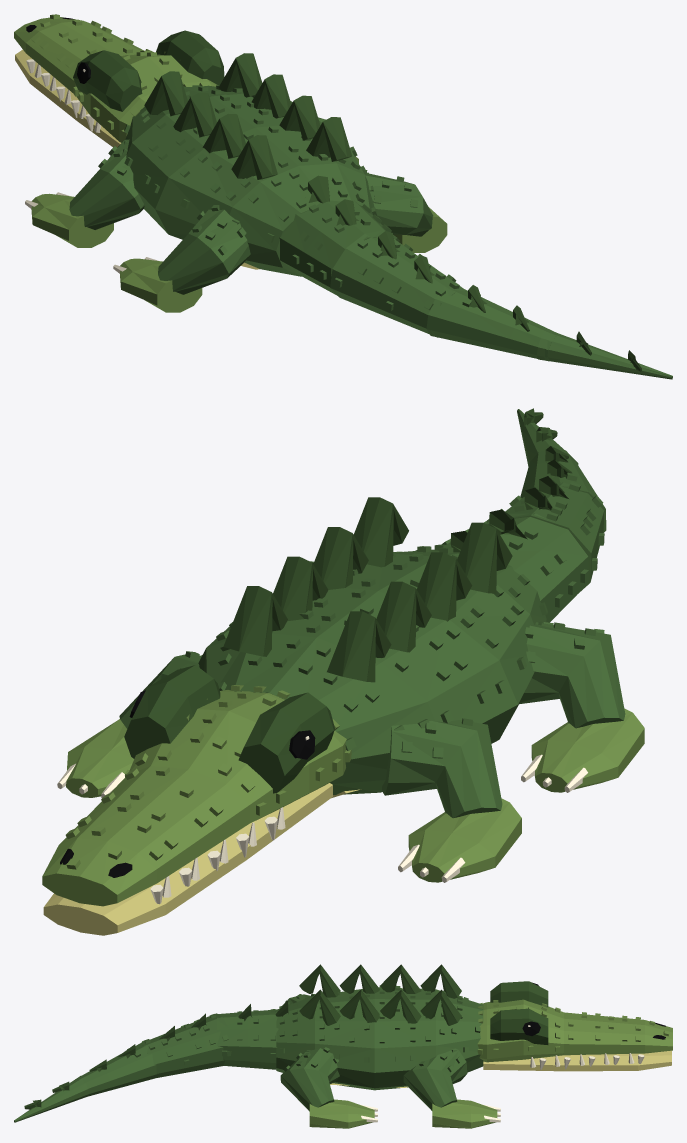
File: Crocodile.fbx
3 renders of one model, top to bottom at view 1: azimuth 30°, elevation 25°; view 2: azimuth 150°, elevation 25°; view 3: azimuth 270°, elevation 25°, orthographic. The views are drawn at different scales.
Parts seen in each view (by area): view 1: Import3D_Core, Import3D_Head, Import3D_Tail1, Import3D_Tail, Import3D_Tail2, Import3D_LegBL, Import3D_LegFL, Import3D_LegBR, Import3D_Tail3, Import3D_FootB-1, Import3D_FootF-1, Import3D_Jaw (+1 smaller); view 2: Import3D_Core, Import3D_Head, Import3D_LegFL, Import3D_Jaw, Import3D_LegBL, Import3D_FootF-1, Import3D_FootB-1, Import3D_Tail, Import3D_Tail1, Import3D_FootF1, Import3D_Tail2, Import3D_Tail3 (+1 smaller); view 3: Import3D_Core, Import3D_Head, Import3D_Tail1, Import3D_Tail, Import3D_Jaw, Import3D_LegBR, Import3D_LegFR, Import3D_Tail2, Import3D_FootB1, Import3D_FootF1, Import3D_Tail3.
Boxes of the visible parts, box(x1,y1,x2,y2) form: Import3D_Core: box(122, 53, 377, 276); Import3D_Head: box(14, 14, 224, 142); Import3D_Tail1: box(330, 231, 466, 337); Import3D_Tail: box(279, 175, 391, 298); Import3D_Tail2: box(426, 285, 557, 361); Import3D_LegBL: box(158, 205, 250, 294); Import3D_LegFL: box(69, 139, 144, 229); Import3D_LegBR: box(362, 169, 433, 236); Import3D_Tail3: box(537, 331, 672, 379); Import3D_FootB-1: box(113, 257, 202, 312); Import3D_FootF-1: box(25, 192, 113, 247); Import3D_Jaw: box(15, 49, 121, 147); Import3D_Core: box(198, 497, 547, 798); Import3D_Head: box(42, 665, 351, 906); Import3D_LegFL: box(382, 718, 502, 818); Import3D_Jaw: box(43, 783, 332, 935); Import3D_LegBL: box(519, 622, 625, 728); Import3D_FootF-1: box(398, 798, 521, 882); Import3D_FootB-1: box(521, 708, 644, 792); Import3D_Tail: box(441, 509, 588, 622); Import3D_Tail1: box(484, 476, 604, 593); Import3D_FootF1: box(57, 719, 133, 797); Import3D_Tail2: box(520, 446, 606, 532); Import3D_Tail3: box(517, 408, 578, 466); Import3D_Core: box(276, 964, 483, 1090); Import3D_Head: box(477, 981, 672, 1070); Import3D_Tail1: box(142, 1013, 231, 1078); Import3D_Tail: box(217, 1000, 288, 1069); Import3D_Jaw: box(483, 1050, 671, 1071); Import3D_LegBR: box(280, 1047, 339, 1111); Import3D_LegFR: box(403, 1048, 467, 1110); Import3D_Tail2: box(76, 1041, 157, 1096); Import3D_FootB1: box(309, 1099, 377, 1128); Import3D_FootF1: box(432, 1099, 500, 1128); Import3D_Tail3: box(14, 1075, 89, 1122).
Bounding box in the file's own units: 143 × 65.96 × 375.
Materials: 1 (1 with a texture image).
